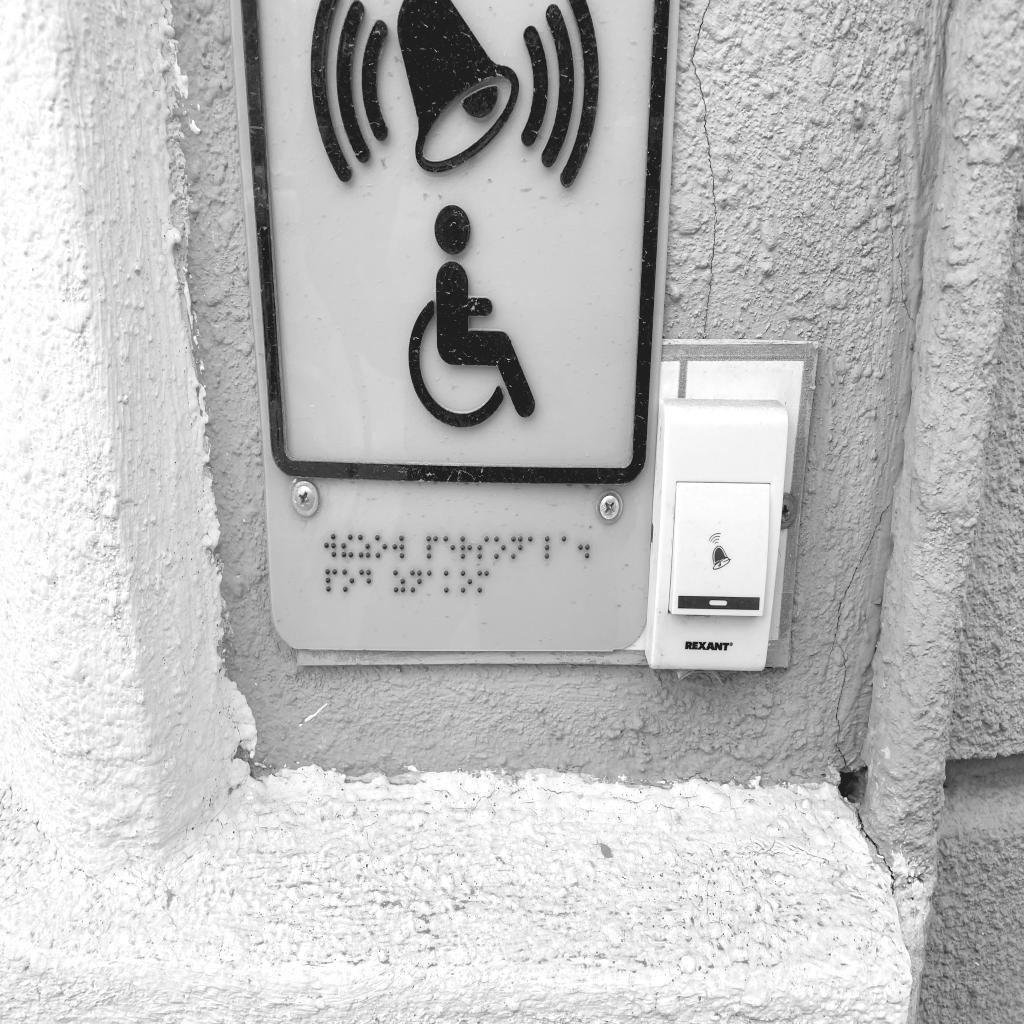_n: (511, 535, 523, 560), (410, 569, 422, 593)
a: (528, 536, 541, 562), (561, 535, 573, 560), (427, 570, 439, 594)
d: (359, 568, 371, 593)
e: (443, 535, 455, 561)
ii: (341, 533, 354, 558)
k: (444, 570, 456, 594)
l: (544, 535, 557, 560)
m: (477, 569, 489, 594)
o: (375, 534, 388, 559), (493, 535, 506, 560), (342, 568, 354, 593), (460, 569, 472, 594)
p: (325, 568, 337, 593), (426, 535, 438, 559)
r: (460, 536, 472, 561)
s: (477, 536, 489, 560)
tochka: (577, 534, 590, 559)
v: (324, 533, 337, 559), (392, 535, 405, 560)
z: (357, 533, 371, 559), (393, 569, 405, 594)
